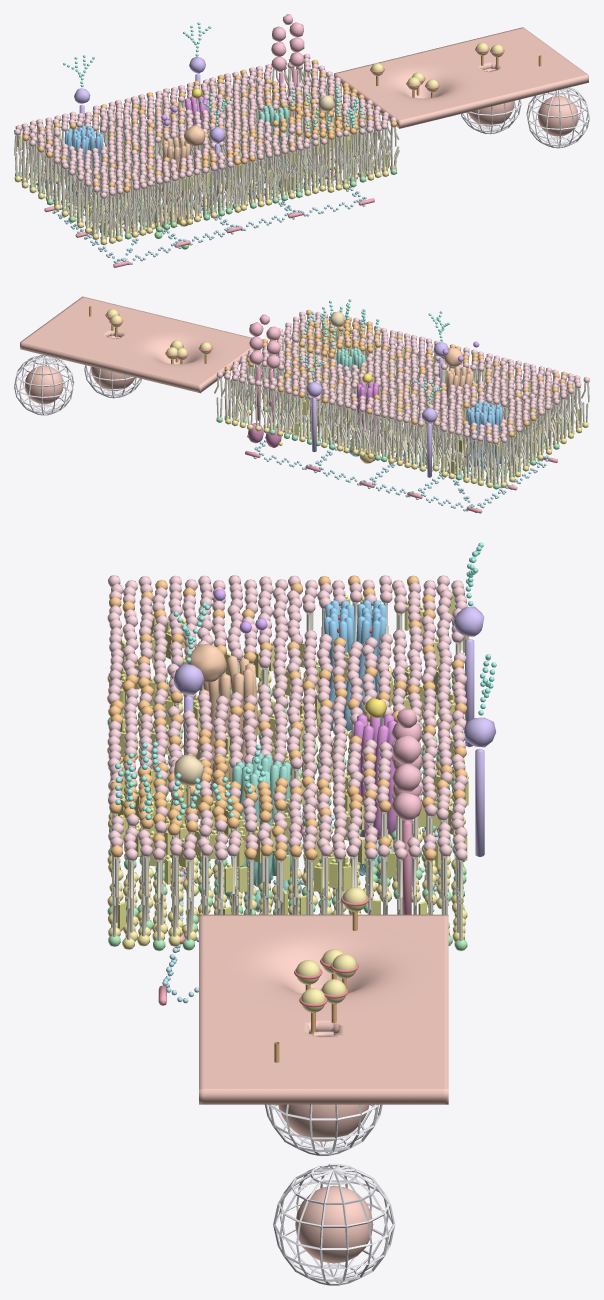
The model's file is plasma_membrane.glb.
The picture shows the model from 3 angles, top to bottom: view 1: azimuth 30°, elevation 25°; view 2: azimuth 150°, elevation 25°; view 3: azimuth 270°, elevation 25°; orthographic projection. The views are drawn at different scales.
Visible parts, largest first — view 1: Fatty Acid Tails, Phospholipid Heads - PC, Membrane (endocytosis hero), Phospholipid Heads - SM, Phospholipid Heads - PE, Clathrin Coat, Spectrin Network, Cholesterol, Phospholipid Heads - PS, RTK Ligand-binding Domains, Coated Vesicle (free), Aquaporin (water channel) (+10 smaller); view 2: Fatty Acid Tails, Phospholipid Heads - PC, Membrane (endocytosis hero), Phospholipid Heads - SM, Phospholipid Heads - PE, Clathrin Coat, Spectrin Network, Cholesterol, Phospholipid Heads - PS, Glycoproteins, Coated Vesicle (free), RTK Ligand-binding Domains (+11 smaller); view 3: Phospholipid Heads - PC, Membrane (endocytosis hero), Phospholipid Heads - SM, Fatty Acid Tails, Cholesterol, Clathrin Coat, Phospholipid Heads - PE, Glycoproteins, Coated Vesicle (free), Phospholipid Heads - PS, Aquaporin (water channel), RTK Ligand-binding Domains (+9 smaller).
Boxes of the visible parts, x1,y1,x2,y2 form: Fatty Acid Tails: (14,66,399,239); Phospholipid Heads - PC: (14,53,396,198); Membrane (endocytosis hero): (334,27,588,128); Phospholipid Heads - SM: (22,59,397,192); Phospholipid Heads - PE: (14,110,396,245); Clathrin Coat: (461,87,589,148); Spectrin Network: (52,161,366,264); Cholesterol: (17,82,389,235); Phospholipid Heads - PS: (15,139,397,239); RTK Ligand-binding Domains: (271,14,304,71); Coated Vesicle (free): (538,96,578,136); Aquaporin (water channel): (64,125,102,196); Fatty Acid Tails: (214,315,589,484); Phospholipid Heads - PC: (216,311,589,444); Membrane (endocytosis hero): (20,296,254,393); Phospholipid Heads - SM: (224,309,572,437); Phospholipid Heads - PE: (225,373,588,488); Clathrin Coat: (14,354,141,415); Spectrin Network: (252,418,549,512); Cholesterol: (238,325,581,473); Phospholipid Heads - PS: (216,380,571,489); Glycoproteins: (306,342,448,477); Coated Vesicle (free): (25,365,63,404); RTK Ligand-binding Domains: (249,314,280,368); Phospholipid Heads - PC: (107,575,467,861); Membrane (endocytosis hero): (199,914,448,1104); Phospholipid Heads - SM: (108,575,467,861); Fatty Acid Tails: (112,602,463,941); Cholesterol: (117,590,468,928); Clathrin Coat: (265,1104,395,1285); Phospholipid Heads - PE: (107,665,467,949); Glycoproteins: (173,606,495,856); Coated Vesicle (free): (295,1185,373,1263); Phospholipid Heads - PS: (107,667,467,951); Aquaporin (water channel): (323,600,386,731); RTK Ligand-binding Domains: (391,708,422,820).
Size of the model in its own units: 22.91 by 7.16 by 7.48.
